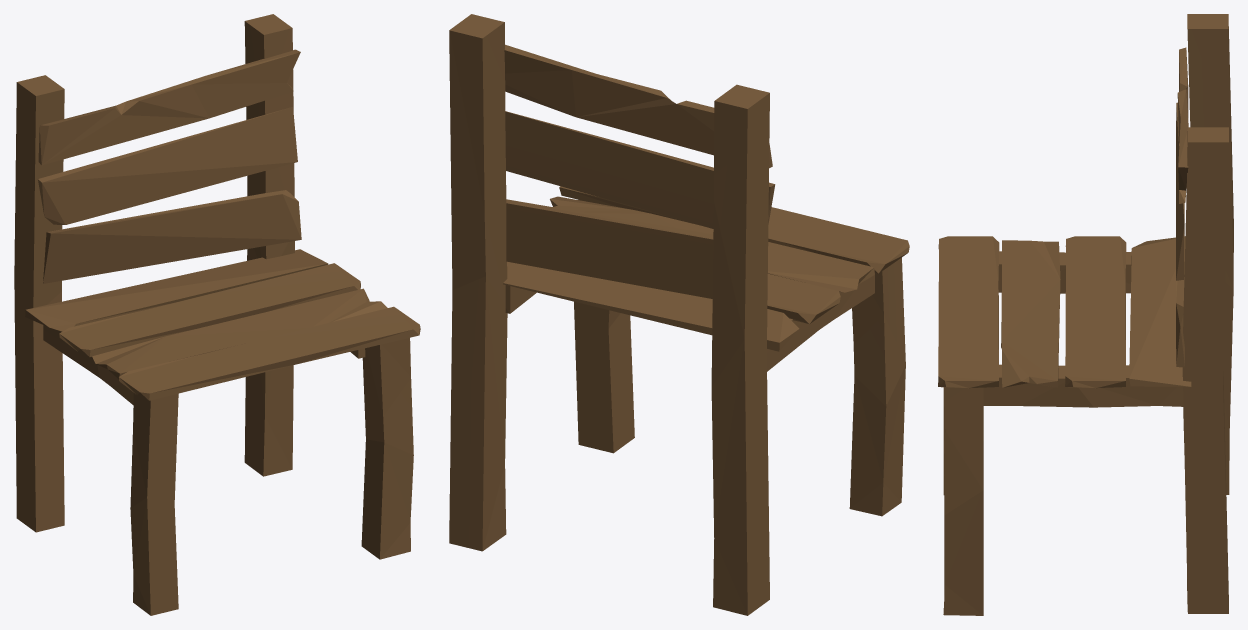
File: Mesh_Props_Chair_01.FBX
3 views of the same model, side by side, from view 1: azimuth 30°, elevation 25°; view 2: azimuth 150°, elevation 25°; view 3: azimuth 270°, elevation 25° (orthographic). The views are drawn at different scales.
Visible parts, largest first — view 1: Mesh_Props_Chair_01; view 2: Mesh_Props_Chair_01; view 3: Mesh_Props_Chair_01.
Part boxes in pixels (x1,y1,x2,y2): Mesh_Props_Chair_01: (14, 14, 420, 615); Mesh_Props_Chair_01: (449, 14, 909, 615); Mesh_Props_Chair_01: (938, 14, 1233, 615).
Size of what is drawn, in the model's own units: 53.75 by 45.86 by 80.71.
